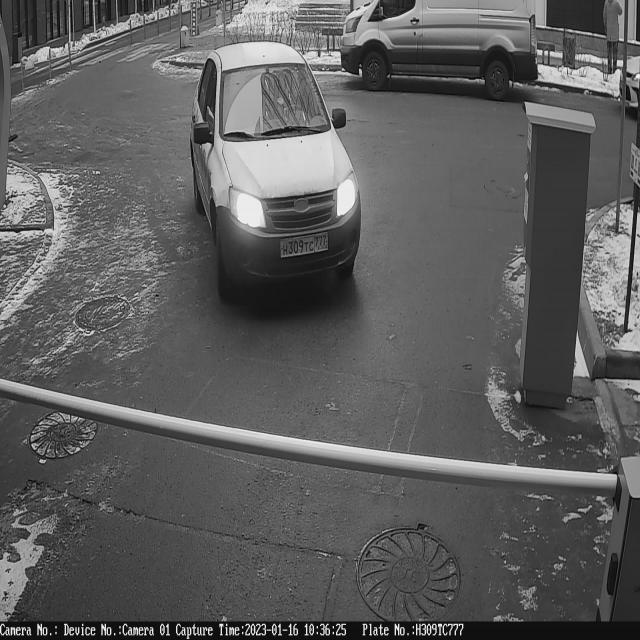car-plate-numbers: (278, 227, 331, 266)
